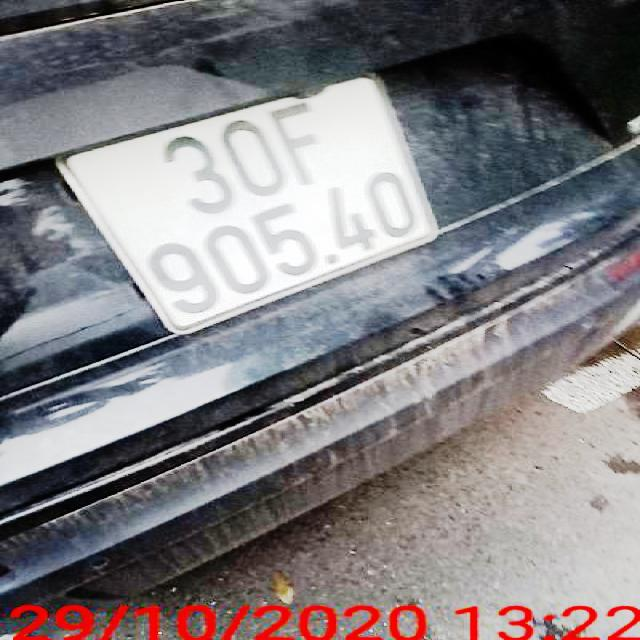license_plate: (58, 77, 440, 333)
